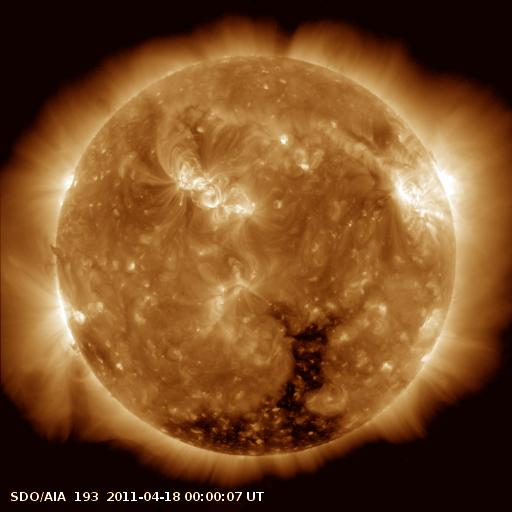coronal_hole: (156, 307, 360, 455)
